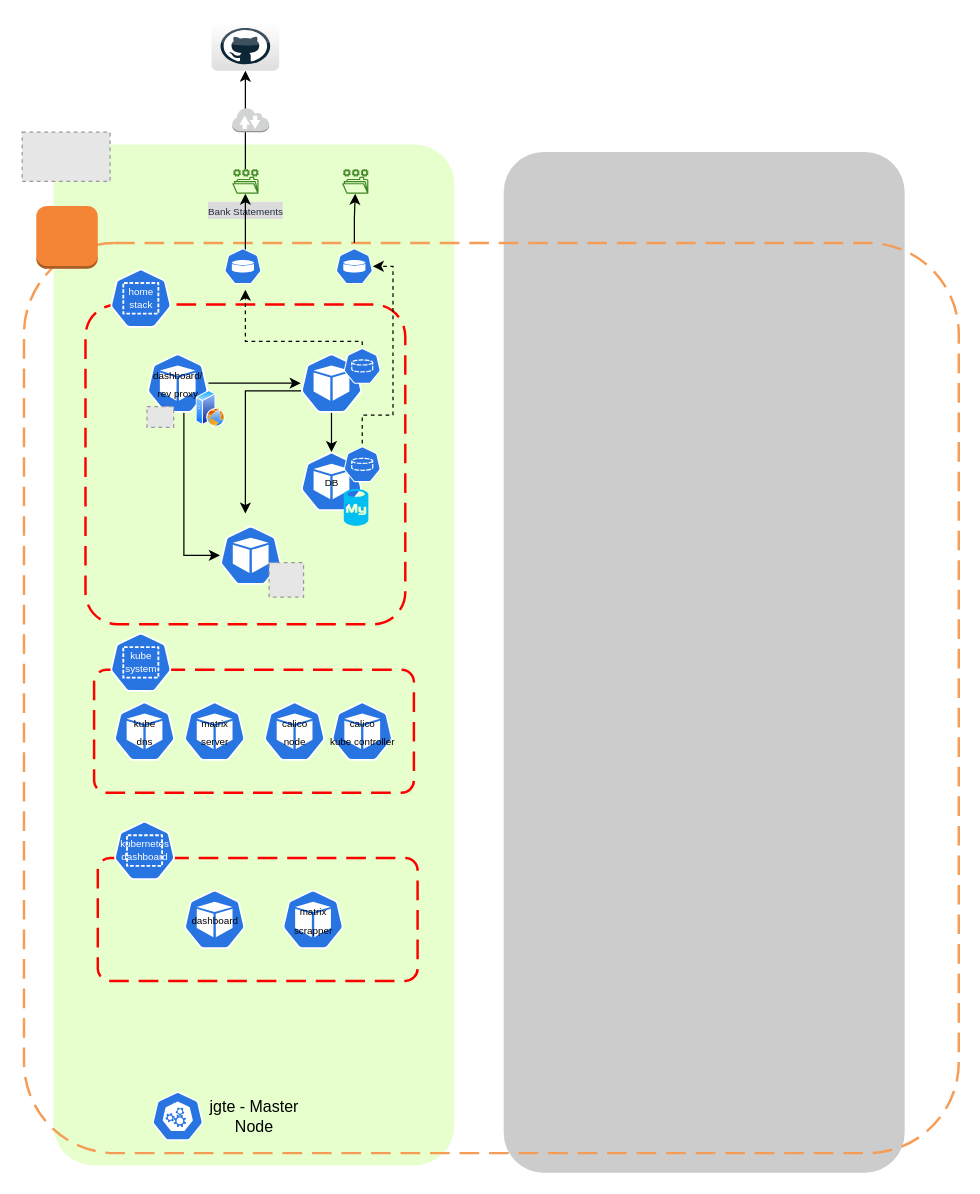
This 980x1194 diagram has some shape labels left out. Grey dashed boxes stand in for pictures. The box of each missing label's shape, as (x1, y1, x2, y2) in pixels:
DB Mount: (341, 169, 368, 193)
Future Plan: (503, 151, 904, 1172)
Jaeger all-in-one: (219, 525, 281, 585)
Kubernetes Cluster: (35, 205, 98, 269)
Private Repo: (210, 20, 279, 71)
stmt-parser: (300, 352, 362, 413)
